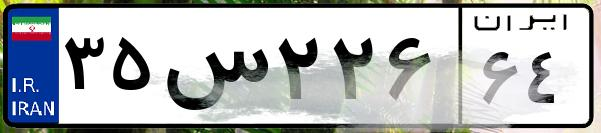2: (270, 28, 330, 110), (330, 28, 385, 110)
3: (57, 26, 110, 100)
4: (525, 38, 570, 115)
5: (110, 28, 158, 98)
6: (385, 28, 445, 110), (475, 38, 525, 113)
س: (158, 20, 270, 120)
